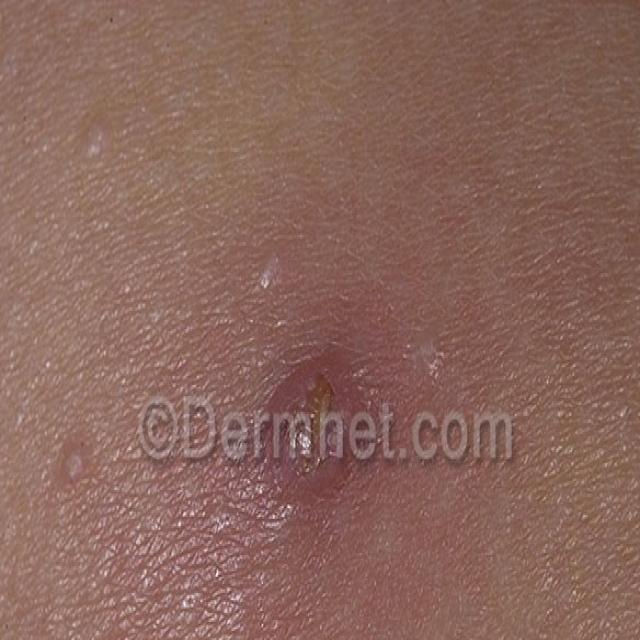Viral Infections: (240, 350, 384, 560), (229, 230, 318, 321), (402, 326, 477, 408), (53, 428, 102, 506), (64, 123, 136, 176)
